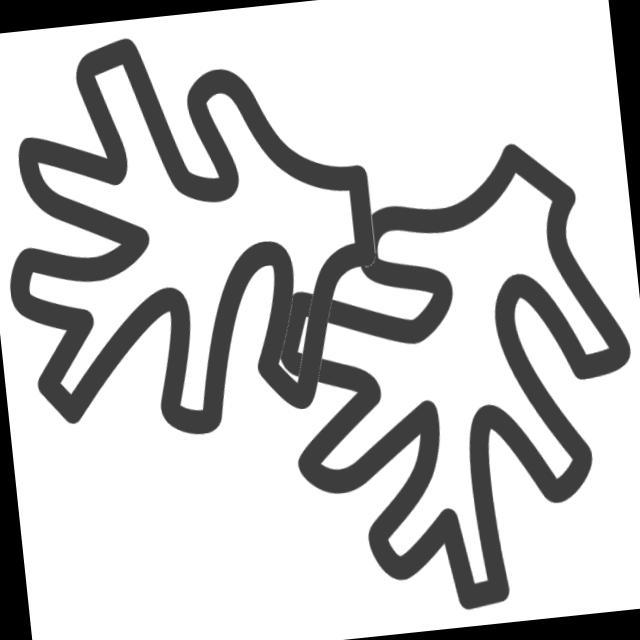coral: (256, 113, 640, 636), (1, 6, 406, 474)
